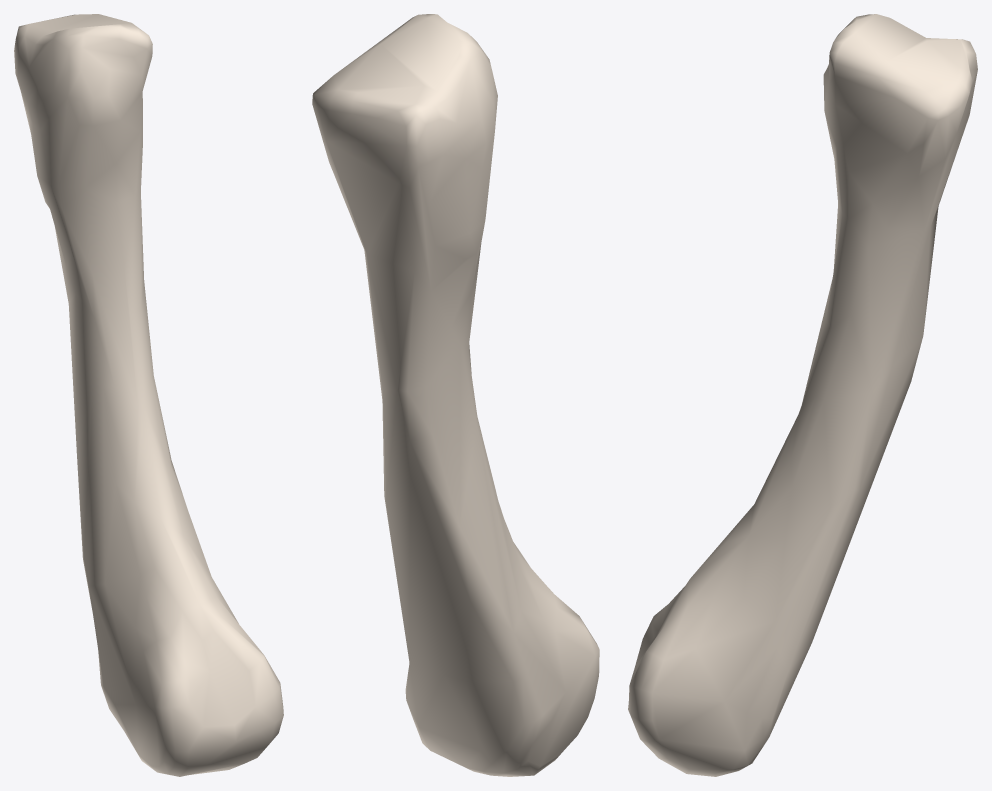
Rendered from right_metacarpal_4.glb.
The picture shows the model from 3 angles, left to right: view 1: azimuth 30°, elevation 25°; view 2: azimuth 150°, elevation 25°; view 3: azimuth 270°, elevation 25°; orthographic projection. The views are drawn at different scales.
Visible parts, largest first — view 1: 4th metacarpal bone.r; view 2: 4th metacarpal bone.r; view 3: 4th metacarpal bone.r.
Boxes of the visible parts, bbox=[...] form: 4th metacarpal bone.r: bbox=[14, 14, 283, 776]; 4th metacarpal bone.r: bbox=[312, 14, 599, 776]; 4th metacarpal bone.r: bbox=[628, 14, 977, 776].
Size of the model in its own units: 0.0124 by 0.0617 by 0.0268.
